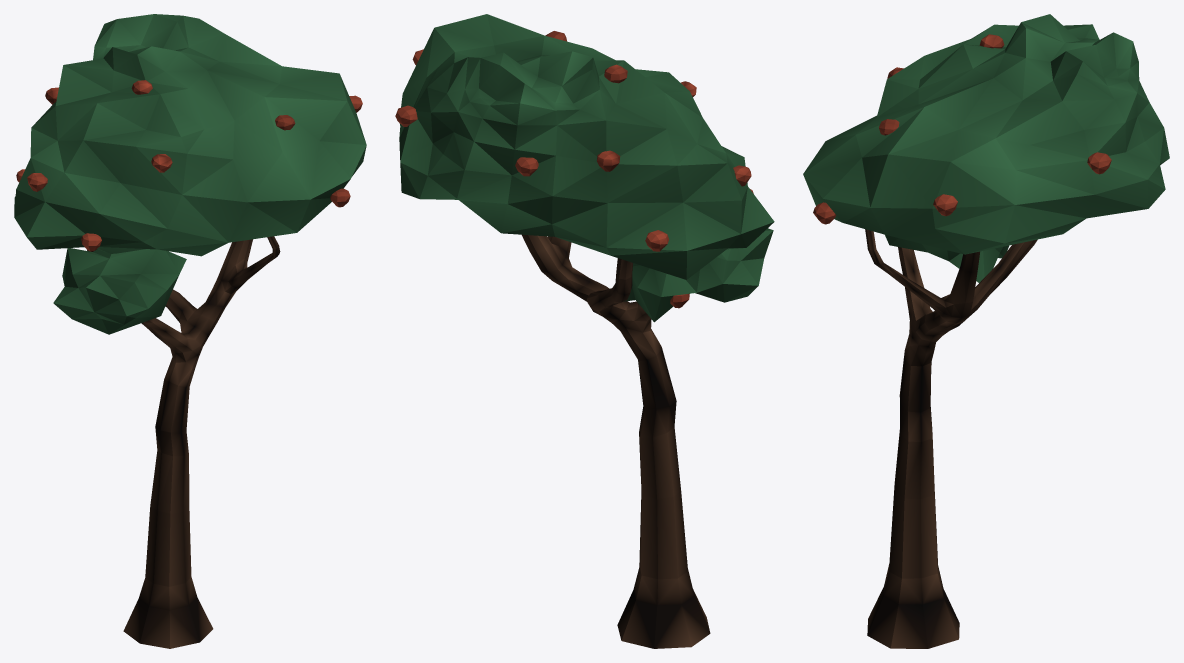
The model's file is test_vertex_color.glb.
3 views of the same model, side by side, from view 1: azimuth 30°, elevation 25°; view 2: azimuth 150°, elevation 25°; view 3: azimuth 270°, elevation 25° (orthographic). The views are drawn at different scales.
Parts seen in each view (by area): view 1: apple_tree_lod0; view 2: apple_tree_lod0; view 3: apple_tree_lod0.
Part boxes in pixels (x1=…): apple_tree_lod0: x1=14, y1=14, x2=366, y2=648; apple_tree_lod0: x1=395, y1=14, x2=774, y2=648; apple_tree_lod0: x1=803, y1=14, x2=1169, y2=648.
Size of the model in its own units: 9.69 by 15.34 by 8.21.
